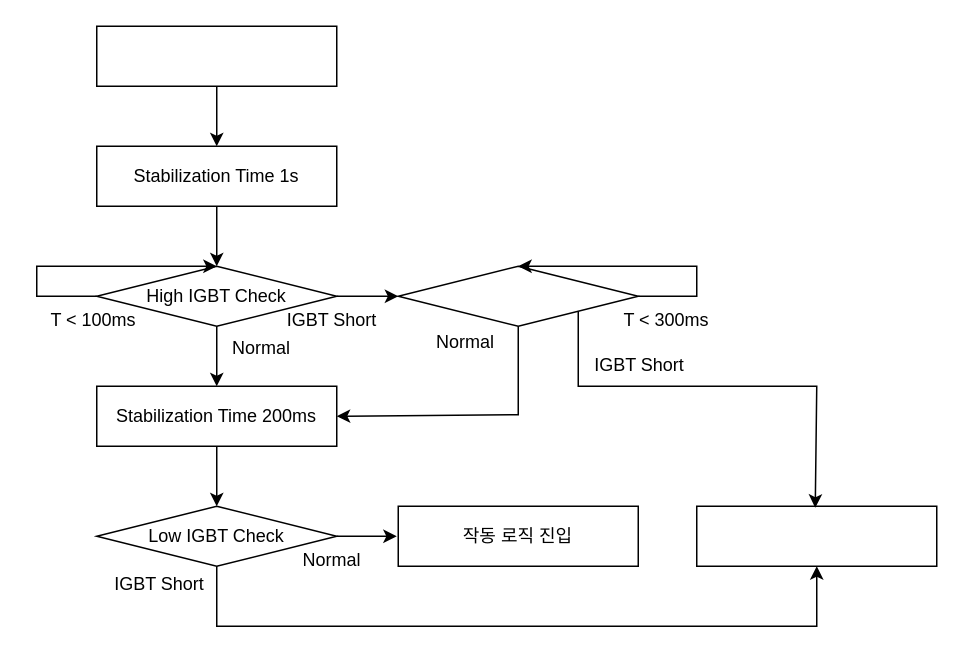
The diagram is 963 pixels wide and 665 high, and some of its shapes have lost their labels. The shapes that lost their labels are listed below. From the top down, each one's box as (x1, y1, x2, y2) in pixels, then its label:
(95, 25, 337, 86): Pre Check 로직 진입
(397, 265, 638, 326): High IGBT ReCheck
(695, 505, 937, 566): IGBT Fault
